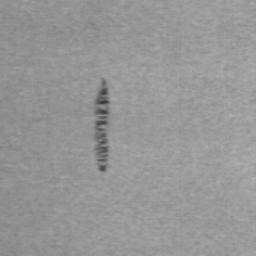Secondary rust skin: (93, 77, 111, 173)
